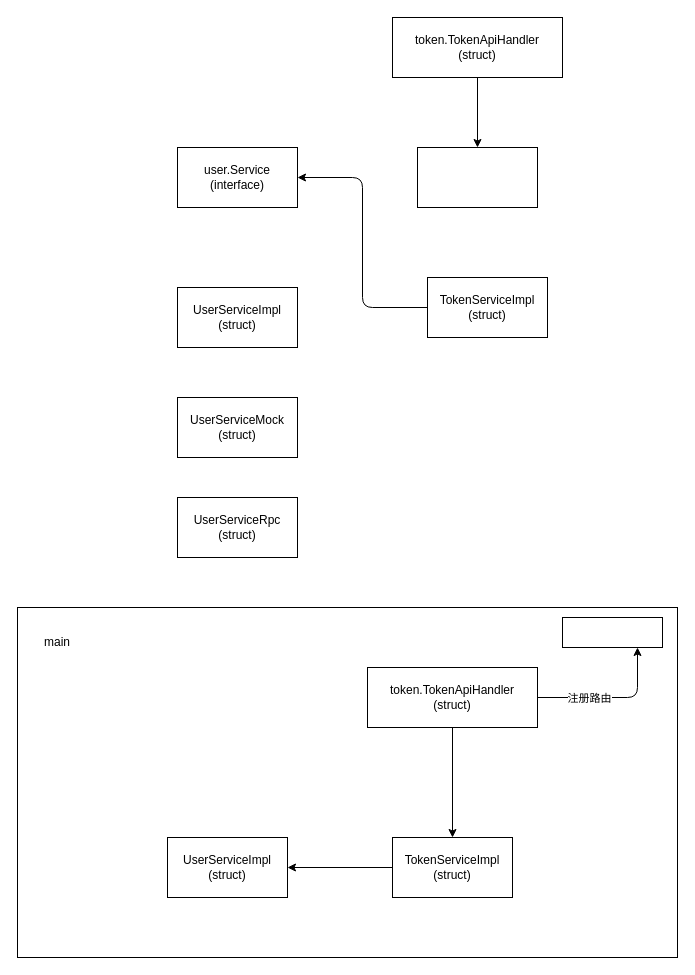
This 695x975 diagram has some shape labels left out. Here are the shapes that lost their labels. From the top down, the centre of each, then its label:
At (477,177): "token.Service (interface)".
At (612,632): "gin".
